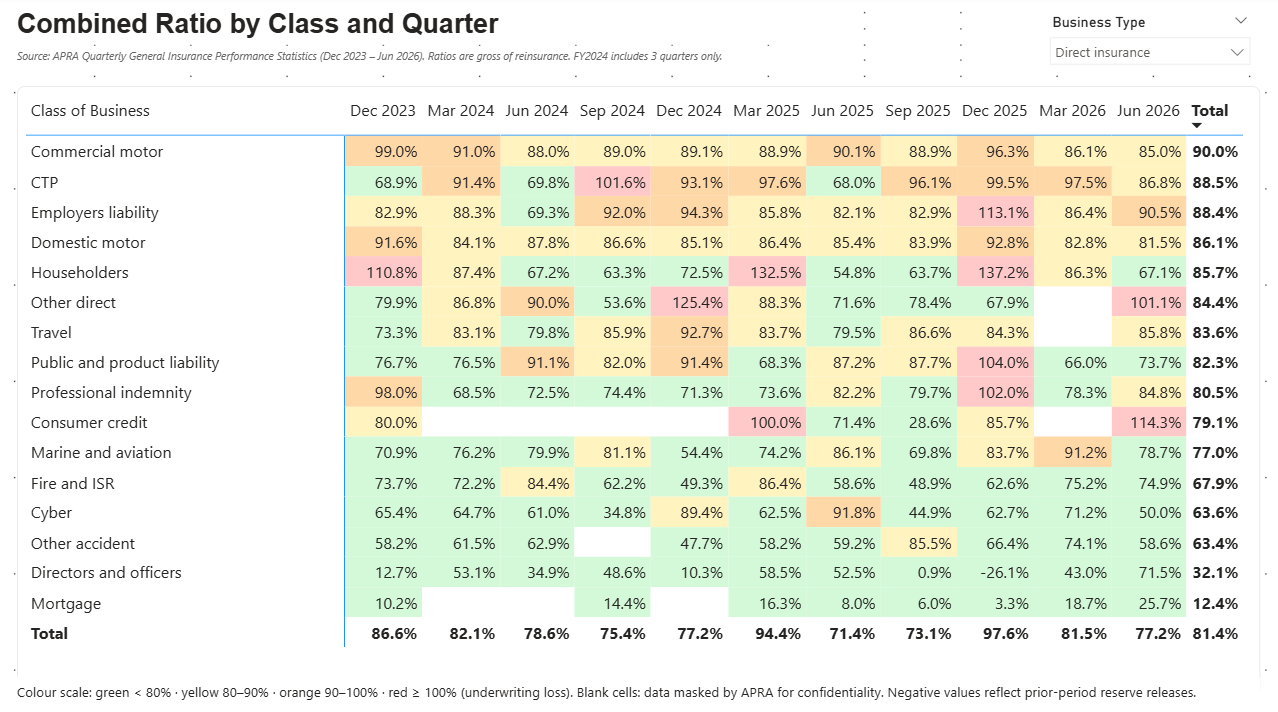

This screenshot's page, from the dashboard's own definition file:
{"tool":"powerbi","page":{"name":"Class Details","canvas":[1280,720],"ordinal":2},"visuals":[{"type":"textbox","box":[20,12,760,36],"z":0},{"type":"textbox","box":[20,50,760,24],"z":1},{"type":"slicer","fields":{"Values":["dim_class.class_group"]},"box":[1040,12,220,56],"z":2},{"type":"pivotTable","fields":{"Columns":["dim_quarter.quarter_label"],"Rows":["dim_class.class_of_business"],"Values":["_Measures.Combined Ratio"]},"box":[20,90,1240,610],"z":3},{"type":"textbox","box":[20,680,1240,30],"z":4}]}

Visuals, with their boxes in screenshot pixels (x1, y1, x2, y2), scaled from the page's 1280x720 canvas onto the 1278x712 screenshot:
textbox: box=[20, 12, 779, 47]
textbox: box=[20, 49, 779, 73]
slicer - dim_class.class_group: box=[1038, 12, 1258, 67]
pivotTable - dim_quarter.quarter_label x dim_class.class_of_business: box=[20, 89, 1258, 692]
textbox: box=[20, 672, 1258, 702]
